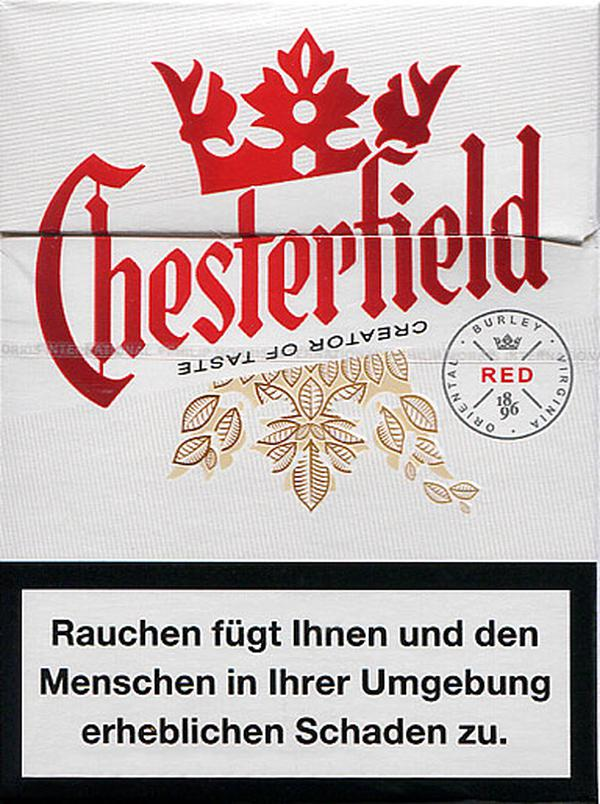chesterfield_red: (5, 8, 600, 801)
